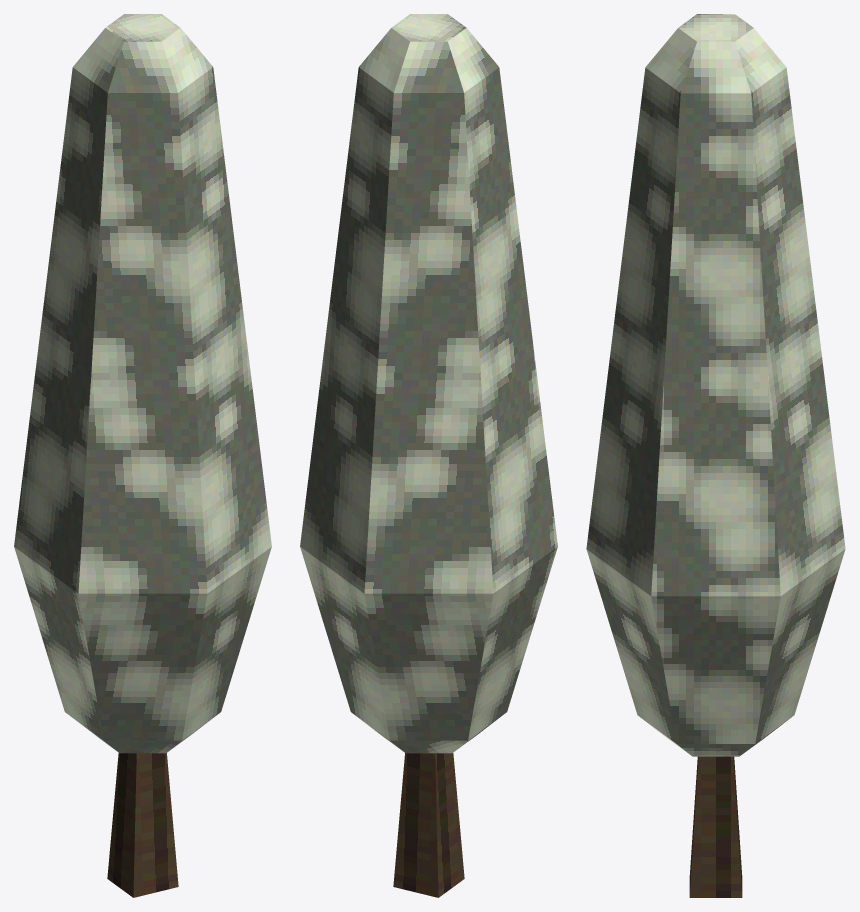
File: sauce_chileno.glb
3 renders of one model, left to right at view 1: azimuth 30°, elevation 25°; view 2: azimuth 150°, elevation 25°; view 3: azimuth 270°, elevation 25°, orthographic.
Visible parts, largest first — view 1: sauce_chileno; view 2: sauce_chileno; view 3: sauce_chileno.
Part boxes in pixels (x1=…): sauce_chileno: x1=14, y1=14, x2=271, y2=897; sauce_chileno: x1=300, y1=14, x2=557, y2=897; sauce_chileno: x1=586, y1=14, x2=845, y2=897.
Bounding box in the file's own units: 1.89 × 8 × 2.19.
Materials: 2 (2 with a texture image).
